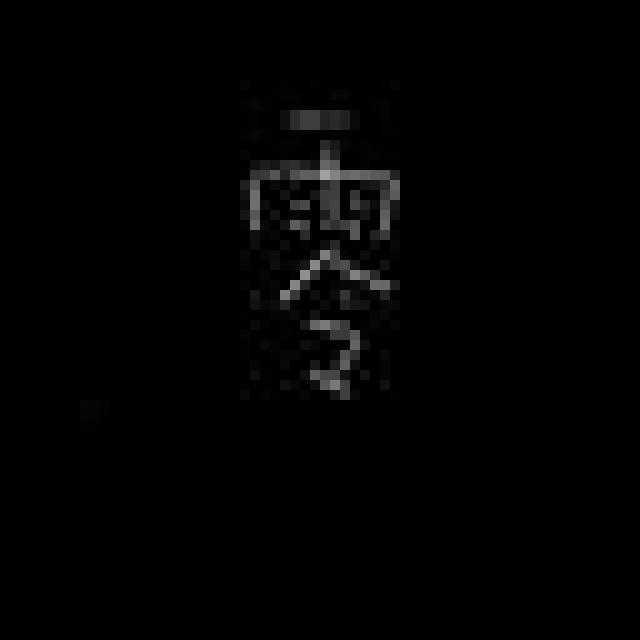0 -zero-: (229, 96, 416, 415)
